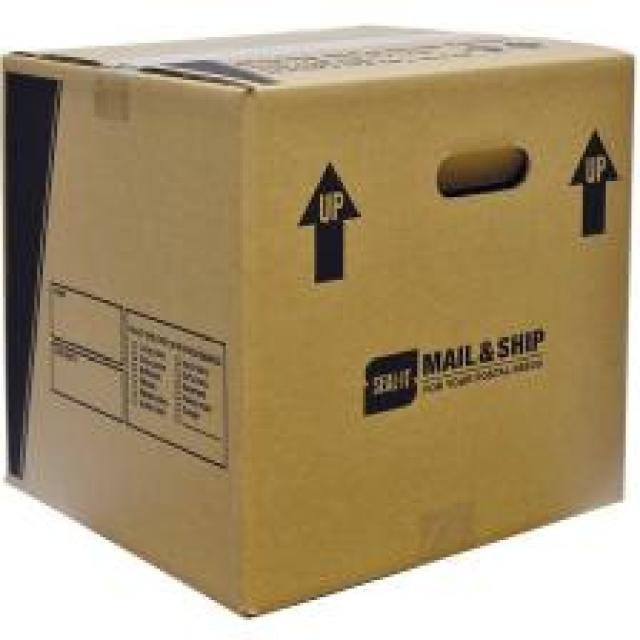box: (1, 23, 636, 621)
normal_hole: (433, 142, 531, 200)
